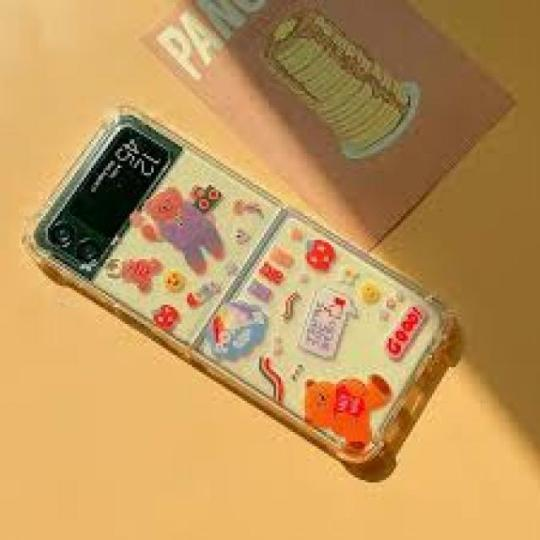phone: (27, 96, 457, 478)
